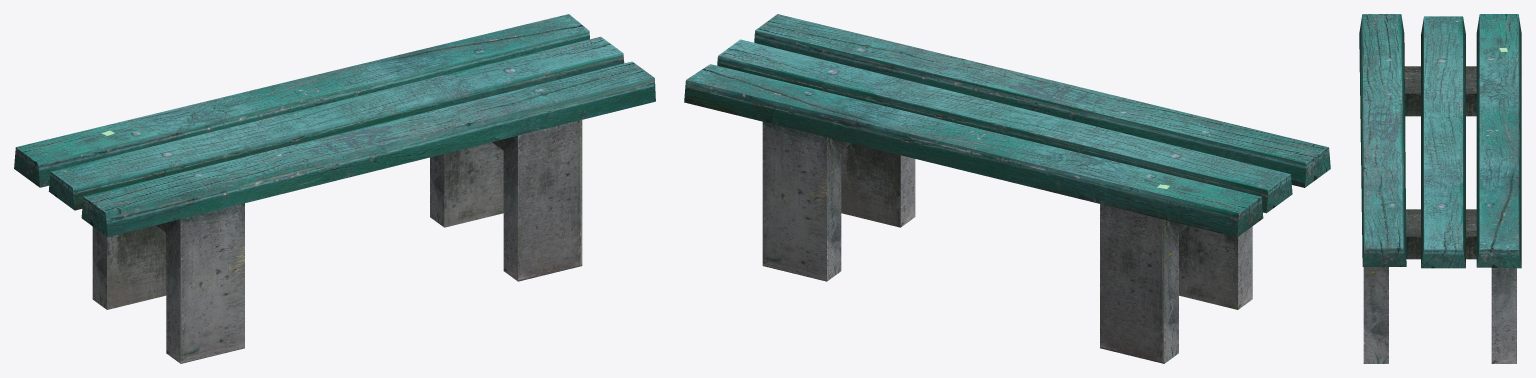
The picture shows the model from 3 angles, left to right: view 1: azimuth 30°, elevation 25°; view 2: azimuth 150°, elevation 25°; view 3: azimuth 270°, elevation 25°; orthographic projection. The views are drawn at different scales.
Parts seen in each view (by area): view 1: bench1_bench1_0; view 2: bench1_bench1_0; view 3: bench1_bench1_0.
Part boxes in pixels (left/top/right/bottom): bench1_bench1_0: left=14, top=14, right=655, bottom=363; bench1_bench1_0: left=684, top=14, right=1330, bottom=363; bench1_bench1_0: left=1359, top=14, right=1521, bottom=363.
Bounding box in the file's own units: 151 × 44.2 × 44.08.
Materials: 1 (1 with a texture image).
